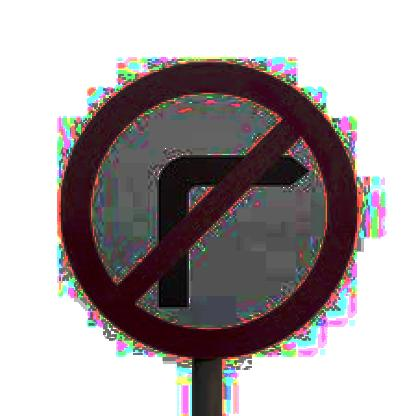No right turn: (57, 57, 350, 357)
